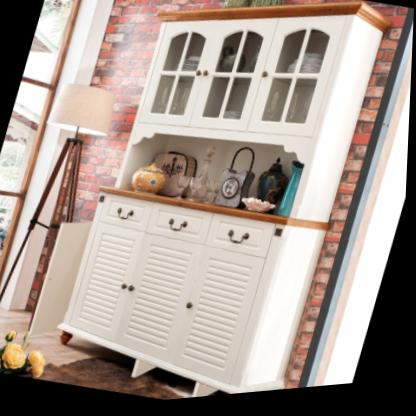Cupboard: (62, 4, 389, 399)
